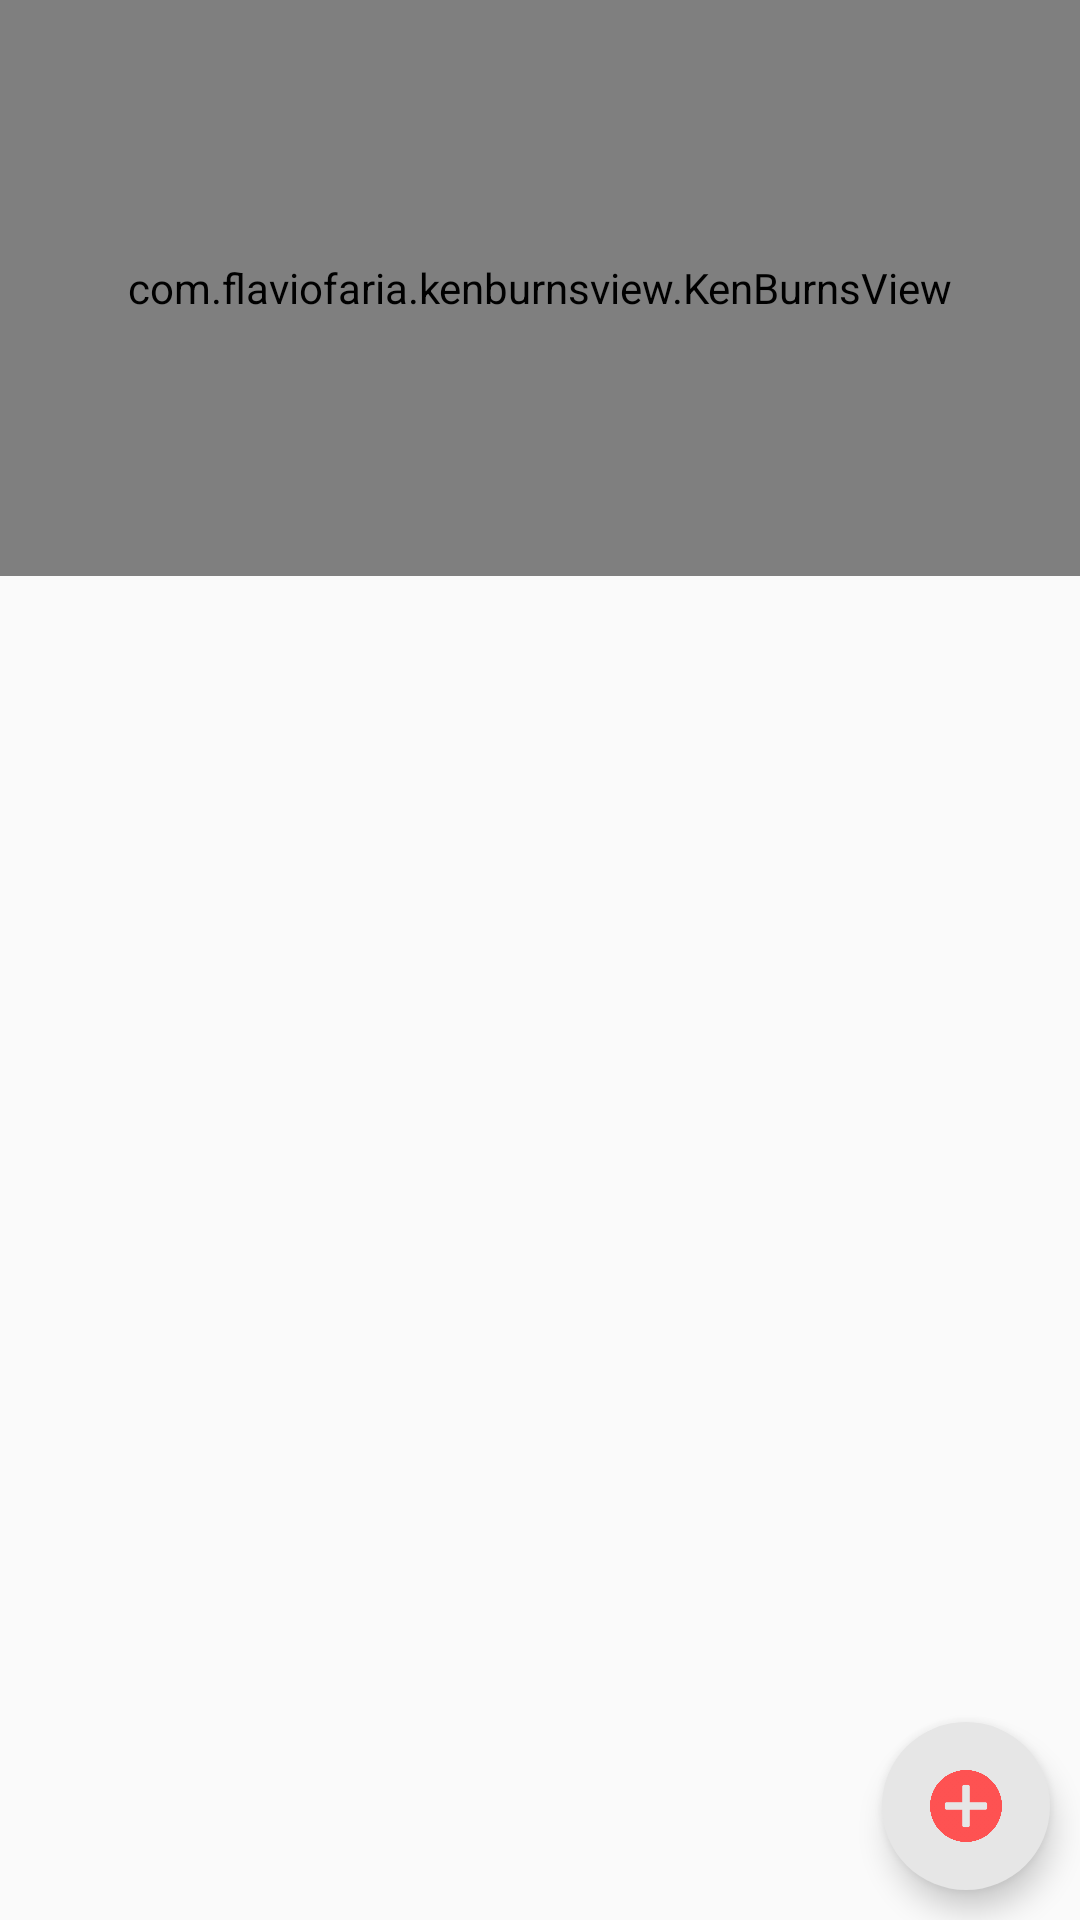

Screen size 1080x1920. Icon name, then its center in pixels as (x=x, y=y):
plus: (x=966, y=1806)
